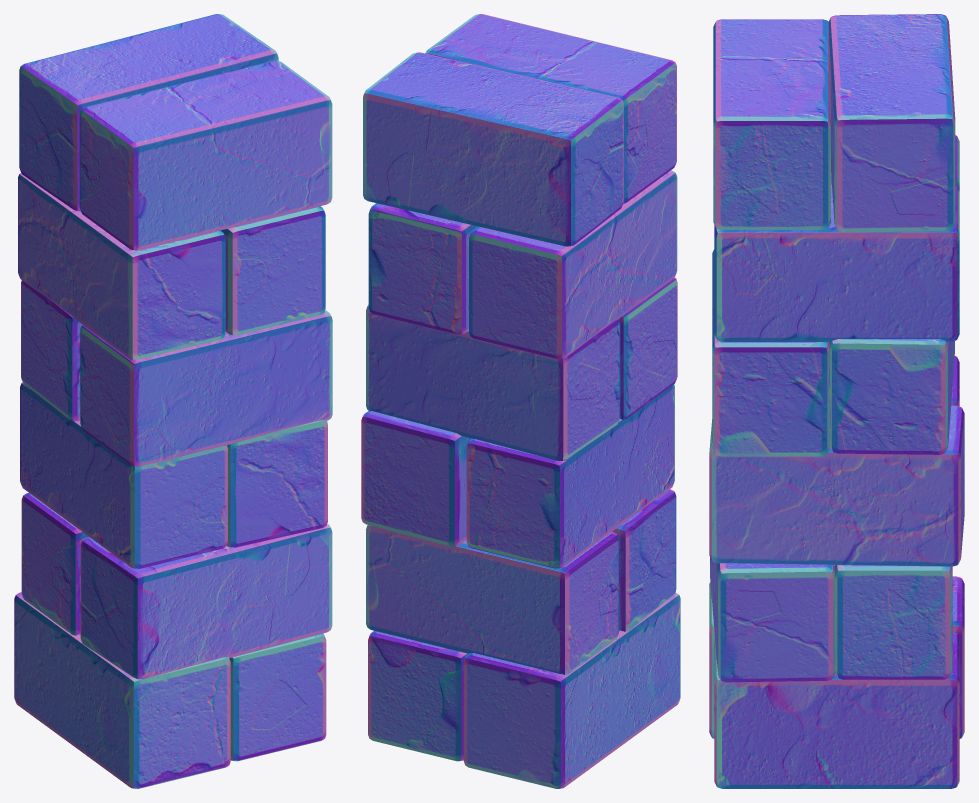
The model's file is Dungeon_Pillar2.fbx.
3 views of the same model, side by side, from view 1: azimuth 30°, elevation 25°; view 2: azimuth 150°, elevation 25°; view 3: azimuth 270°, elevation 25° (orthographic). The views are drawn at different scales.
Parts seen in each view (by area): view 1: MeshHP; view 2: MeshHP; view 3: MeshHP.
Part boxes in pixels (bbox=[...]): MeshHP: bbox=[14, 14, 332, 788]; MeshHP: bbox=[361, 14, 680, 788]; MeshHP: bbox=[709, 14, 964, 788].
Bounding box in the file's own units: 1.4 × 4.1 × 1.4.
Materials: 1 (1 with a texture image).
